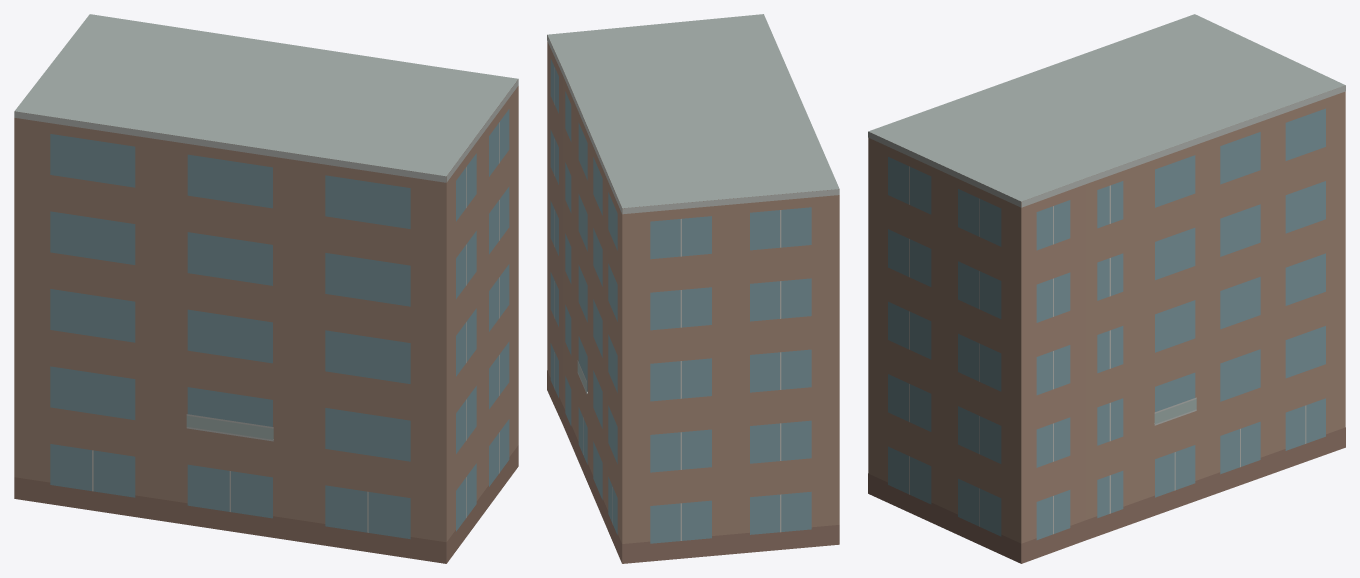
File: survey-upis-32766379.glb
The picture shows the model from 3 angles, left to right: view 1: azimuth 30°, elevation 25°; view 2: azimuth 150°, elevation 25°; view 3: azimuth 270°, elevation 25°; orthographic projection. The views are drawn at different scales.
Visible parts, largest first — view 1: survey-upis-32766379.tmp; view 2: survey-upis-32766379.tmp; view 3: survey-upis-32766379.tmp.
Part boxes in pixels (x1,y1,x2,y2): survey-upis-32766379.tmp: (14, 14, 518, 563); survey-upis-32766379.tmp: (547, 14, 839, 563); survey-upis-32766379.tmp: (868, 14, 1345, 563).
Bounding box in the file's own units: 16.12 × 14.5 × 17.34.
